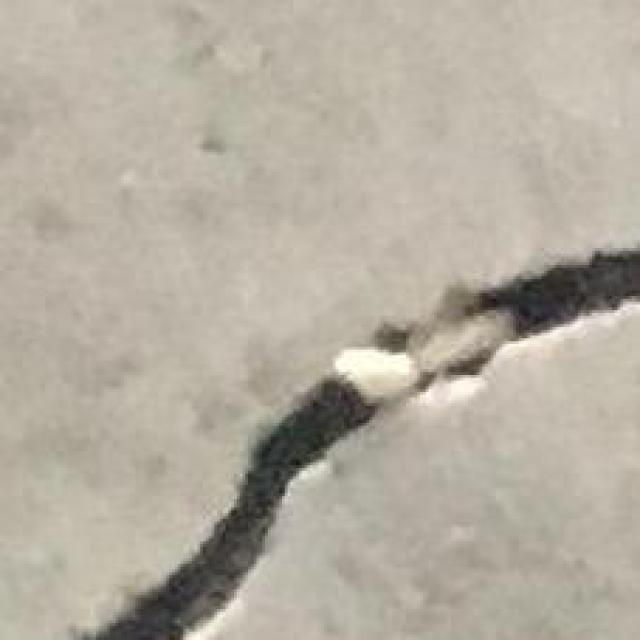diagonal crack: (85, 248, 639, 639)
